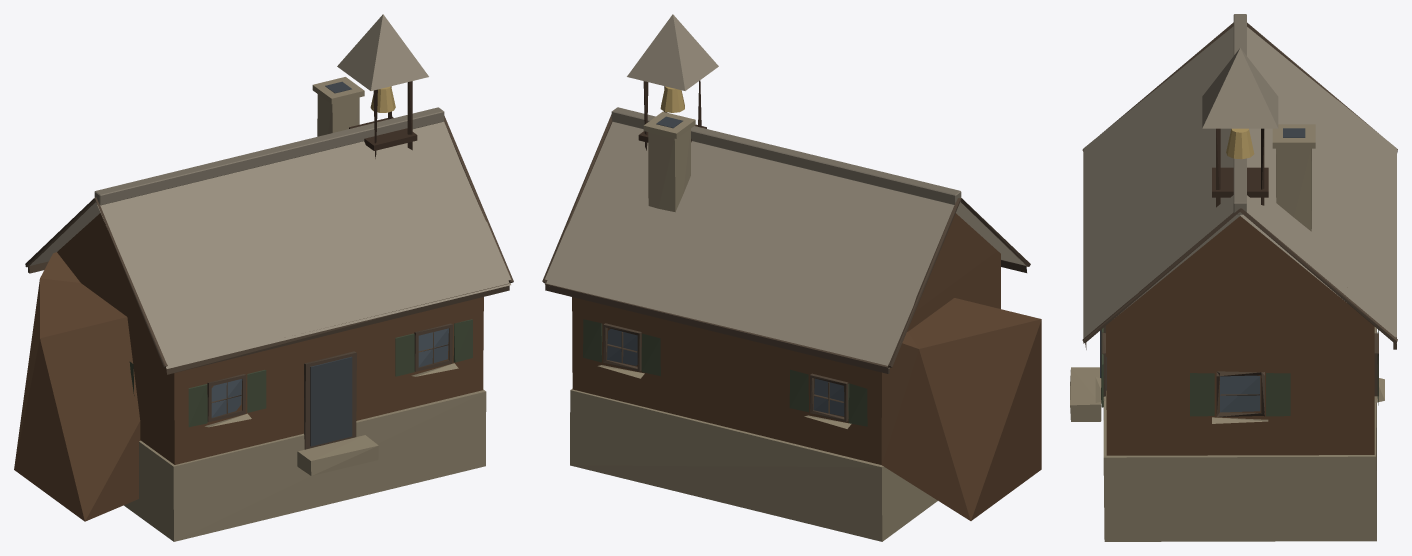
The model's file is chapel-mountain-lod1.glb.
3 views of the same model, side by side, from view 1: azimuth 30°, elevation 25°; view 2: azimuth 150°, elevation 25°; view 3: azimuth 270°, elevation 25° (orthographic). The views are drawn at different scales.
Bounding box in the file's own units: 12.1 × 11.6 × 7.32.
